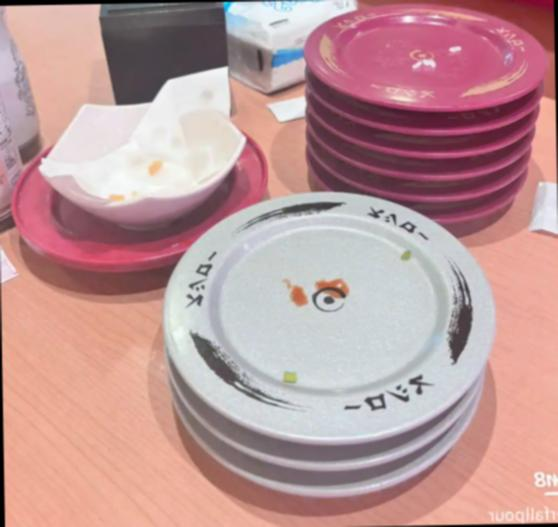Janred: (308, 15, 534, 98), (331, 104, 528, 135), (354, 156, 518, 178), (350, 138, 520, 158), (388, 183, 511, 204), (434, 202, 507, 223)
Janwhite: (176, 226, 458, 417), (207, 421, 450, 472), (211, 466, 418, 503)
